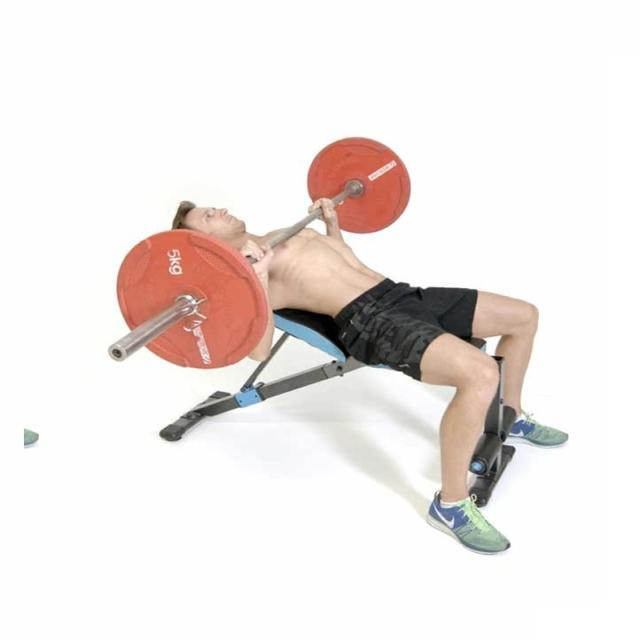bench: (98, 125, 580, 569)
